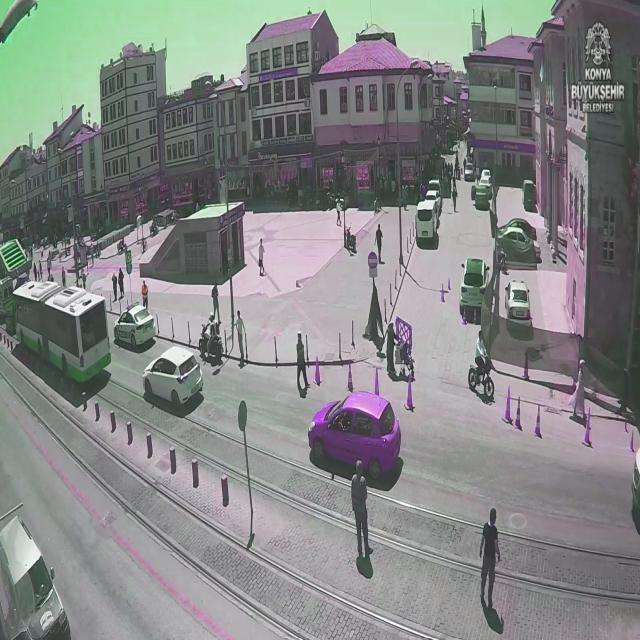Bus: (10, 280, 112, 385)
Car: (307, 389, 402, 480), (143, 347, 202, 405), (113, 302, 156, 348), (459, 256, 492, 312), (505, 279, 532, 327)
Cycle: (466, 355, 496, 397), (198, 325, 225, 359)
